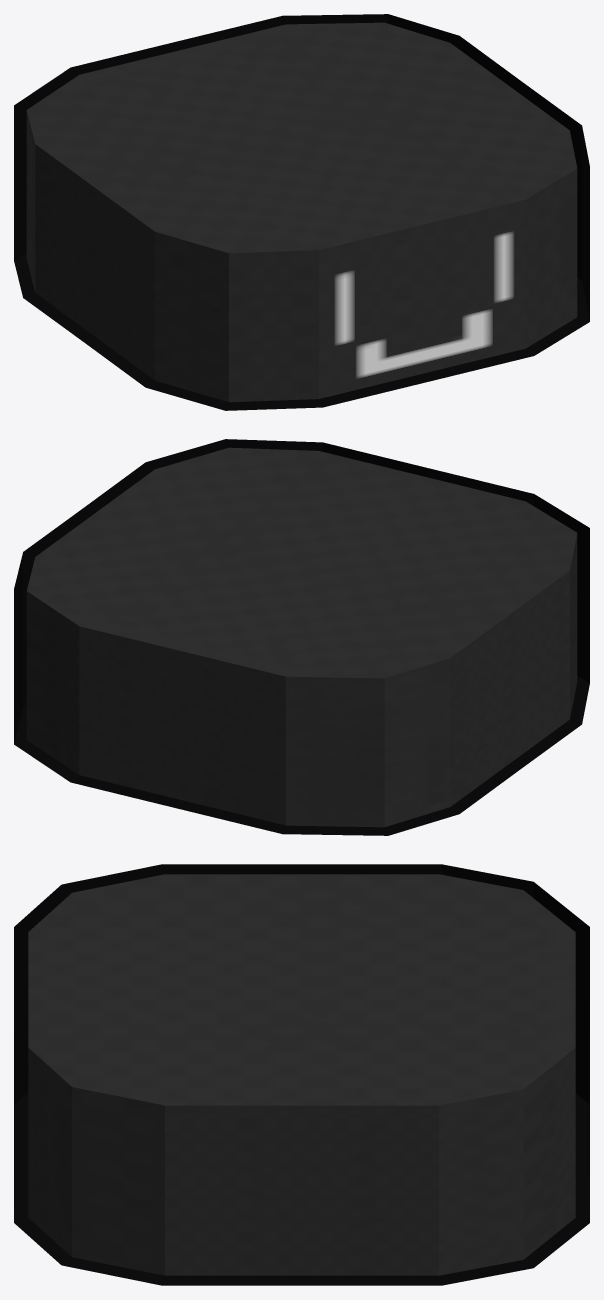
Rendered from 像素马赛克.fbx.
3 renders of one model, top to bottom at view 1: azimuth 30°, elevation 25°; view 2: azimuth 150°, elevation 25°; view 3: azimuth 270°, elevation 25°, orthographic. The views are drawn at different scales.
Visible parts, largest first — view 1: 像素马赛克; view 2: 像素马赛克; view 3: 像素马赛克.
Part boxes in pixels (left/top/right/bottom): 像素马赛克: left=14, top=14, right=589, bottom=410; 像素马赛克: left=14, top=439, right=589, bottom=835; 像素马赛克: left=14, top=864, right=589, bottom=1285.
Size of the model in its own units: 0.5874 by 0.2049 by 0.5874.
